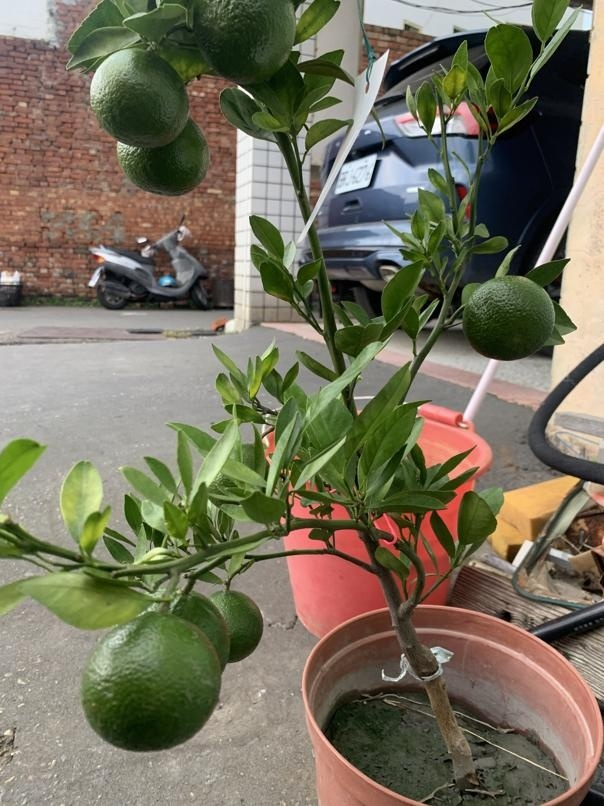Tangerine: (82, 605, 230, 751), (86, 44, 194, 148), (191, 0, 303, 83), (465, 272, 558, 363)
